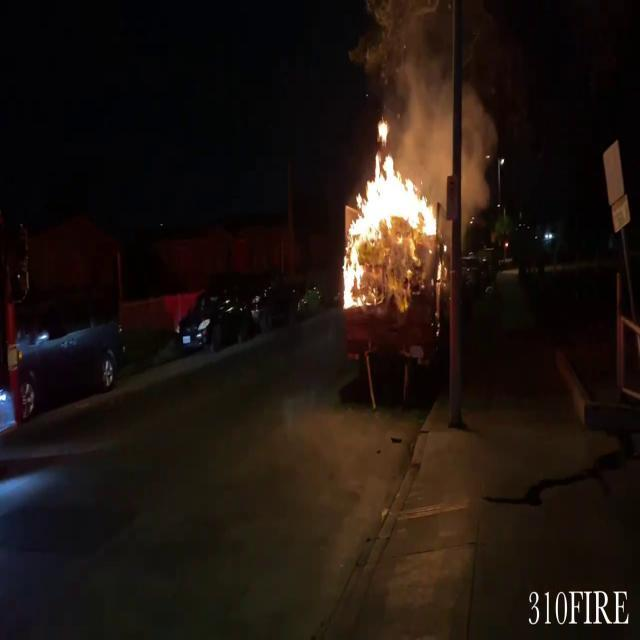Fire: (334, 128, 446, 311)
Smoke: (406, 54, 494, 215)
